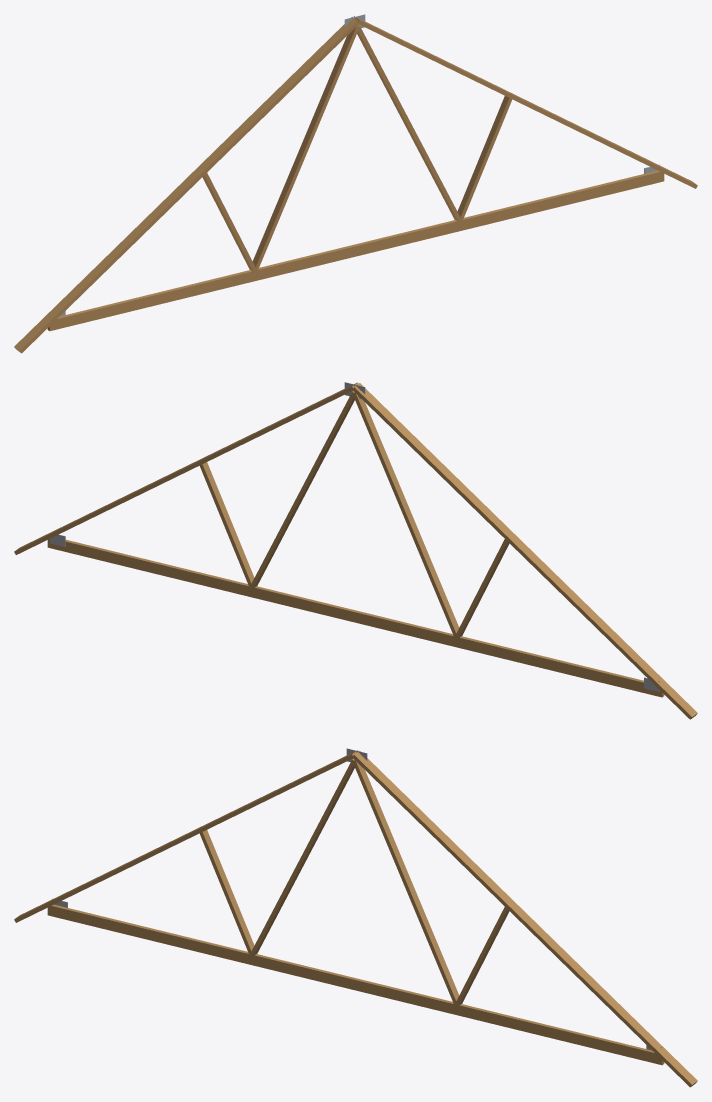
File: structure.truss.fink_6.glb
3 views of the same model, one above another, from view 1: azimuth 30°, elevation 25°; view 2: azimuth 150°, elevation 25°; view 3: azimuth 330°, elevation 25° (orthographic).
Visible parts, largest first — view 1: truss__softwood; view 2: truss__softwood; view 3: truss__softwood.
Boxes of the visible parts, bbox=[...] form: truss__softwood: bbox=[14, 16, 697, 353]; truss__softwood: bbox=[14, 382, 697, 719]; truss__softwood: bbox=[14, 750, 697, 1087].
Bounding box in the file's own units: 6.62 × 2.35 × 0.097.
